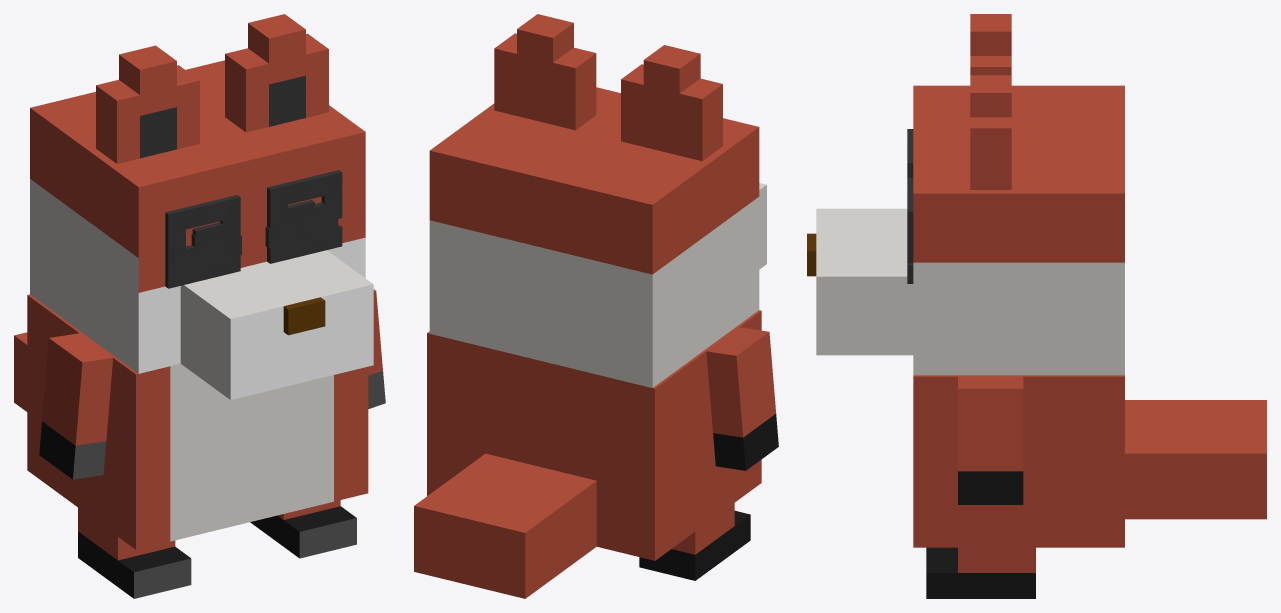
3 views of the same model, side by side, from view 1: azimuth 30°, elevation 25°; view 2: azimuth 150°, elevation 25°; view 3: azimuth 270°, elevation 25° (orthographic). The views are drawn at different scales.
Parts seen in each view (by area): view 1: Ch_33_Head, Ch_33, Ch_33_Ear, Ch_33_Hand_L, Ch_33_Leg_L, Ch_33_Eye_03_R, Ch_33_Eye_03_L, Ch_33_Leg_R, Ch_33_Eye_01, Ch_33_Eye_02, Ch_33_Hand_R, Ch_33_Tail; view 2: Ch_33_Head, Ch_33, Ch_33_Tail, Ch_33_Ear, Ch_33_Hand_L, Ch_33_Leg_L; view 3: Ch_33_Head, Ch_33, Ch_33_Tail, Ch_33_Hand_R, Ch_33_Ear, Ch_33_Leg_R, Ch_33_Eye_03_R.
Part boxes in pixels (<box>): Ch_33_Head: <box>30,60,373,399</box>; Ch_33: <box>27,294,368,549</box>; Ch_33_Ear: <box>96,14,328,163</box>; Ch_33_Hand_L: <box>39,333,112,479</box>; Ch_33_Leg_L: <box>78,508,191,598</box>; Ch_33_Eye_03_R: <box>267,170,342,263</box>; Ch_33_Eye_03_L: <box>165,195,240,288</box>; Ch_33_Leg_R: <box>250,500,356,558</box>; Ch_33_Eye_01: <box>192,200,314,262</box>; Ch_33_Eye_02: <box>186,219,338,265</box>; Ch_33_Hand_R: <box>368,289,385,408</box>; Ch_33_Tail: <box>14,332,27,411</box>; Ch_33_Head: <box>429,87,766,387</box>; Ch_33: <box>427,310,761,560</box>; Ch_33_Tail: <box>414,453,596,598</box>; Ch_33_Ear: <box>494,14,722,160</box>; Ch_33_Hand_L: <box>706,327,778,470</box>; Ch_33_Leg_L: <box>639,503,750,580</box>; Ch_33_Head: <box>807,85,1124,375</box>; Ch_33: <box>913,375,1124,547</box>; Ch_33_Tail: <box>1125,400,1266,519</box>; Ch_33_Hand_R: <box>958,376,1023,504</box>; Ch_33_Ear: <box>970,14,1011,189</box>; Ch_33_Leg_R: <box>926,547,1035,598</box>; Ch_33_Eye_03_R: <box>907,177,913,283</box>.
Bounding box in the file's own units: 7.26 × 11.2 × 9.48.
